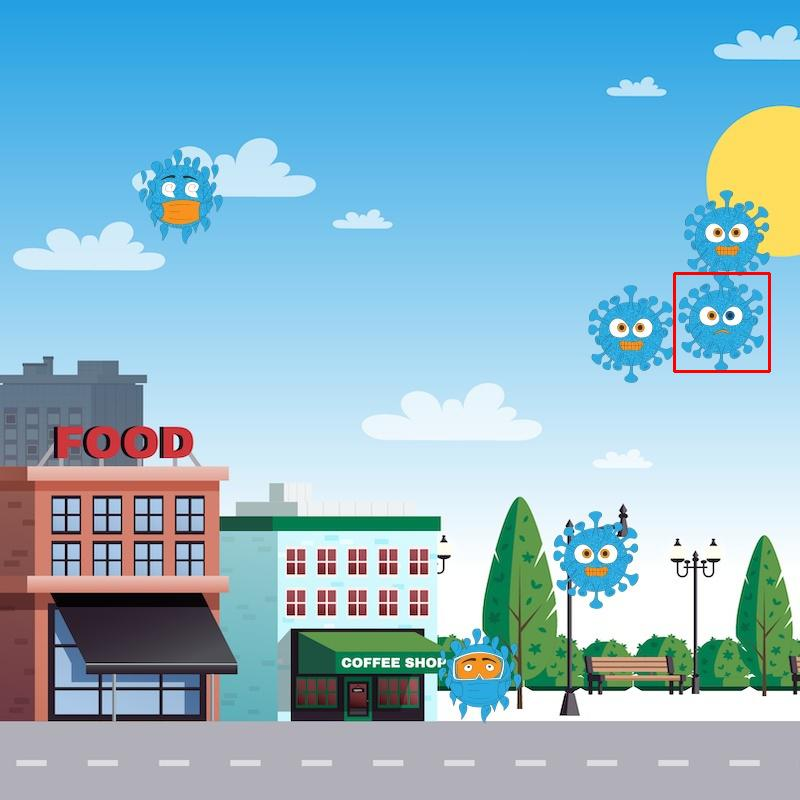corona1: (551, 508, 638, 608), (677, 193, 772, 281)
corona2: (582, 285, 679, 380), (679, 275, 768, 373)
doctor: (441, 623, 531, 725)
paitent: (137, 148, 230, 242)
